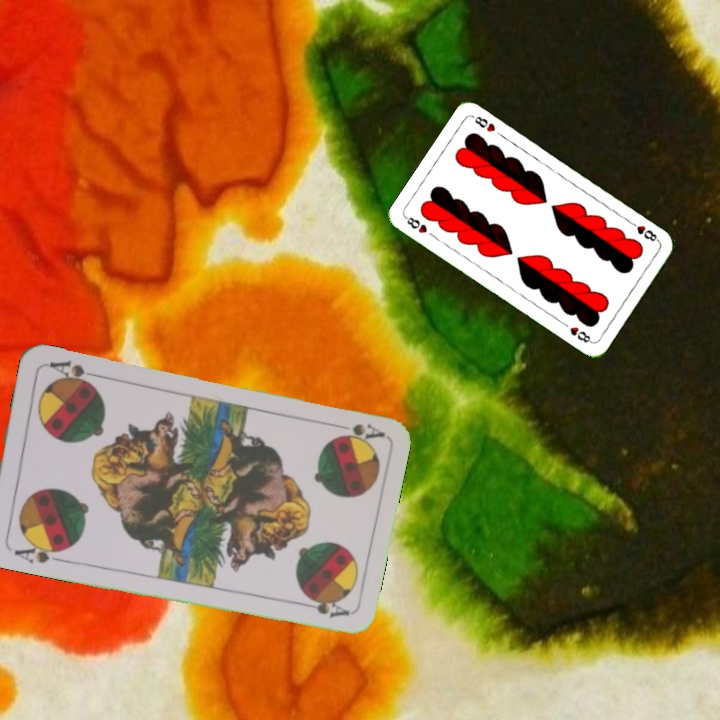H8: (625, 217, 662, 244), (401, 213, 430, 236)
SA: (10, 537, 66, 566), (327, 418, 386, 445)
